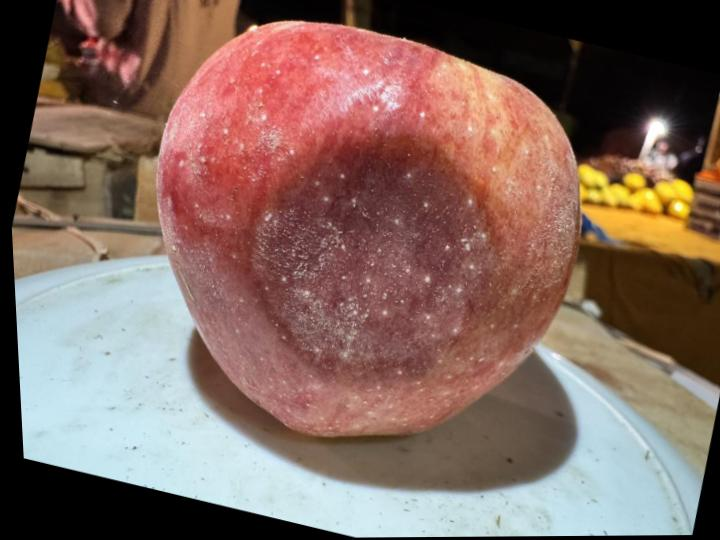apple: (157, 22, 580, 436)
rot_mold_decay: (260, 137, 491, 367)
